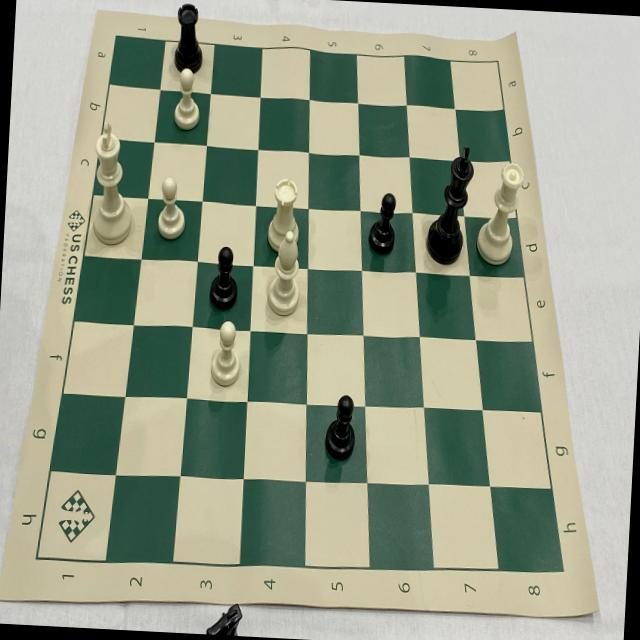black-king: (421, 137, 480, 270)
black-pawn: (320, 388, 364, 466), (204, 240, 243, 318), (364, 184, 401, 261)
black-rook: (167, 0, 210, 79)
white-bishop: (262, 228, 310, 325)
white-king: (84, 112, 144, 250)
white-pawn: (204, 316, 249, 394), (151, 172, 194, 250), (168, 68, 208, 138)
white-queen: (474, 152, 529, 272)
white-rook: (263, 166, 307, 256)
